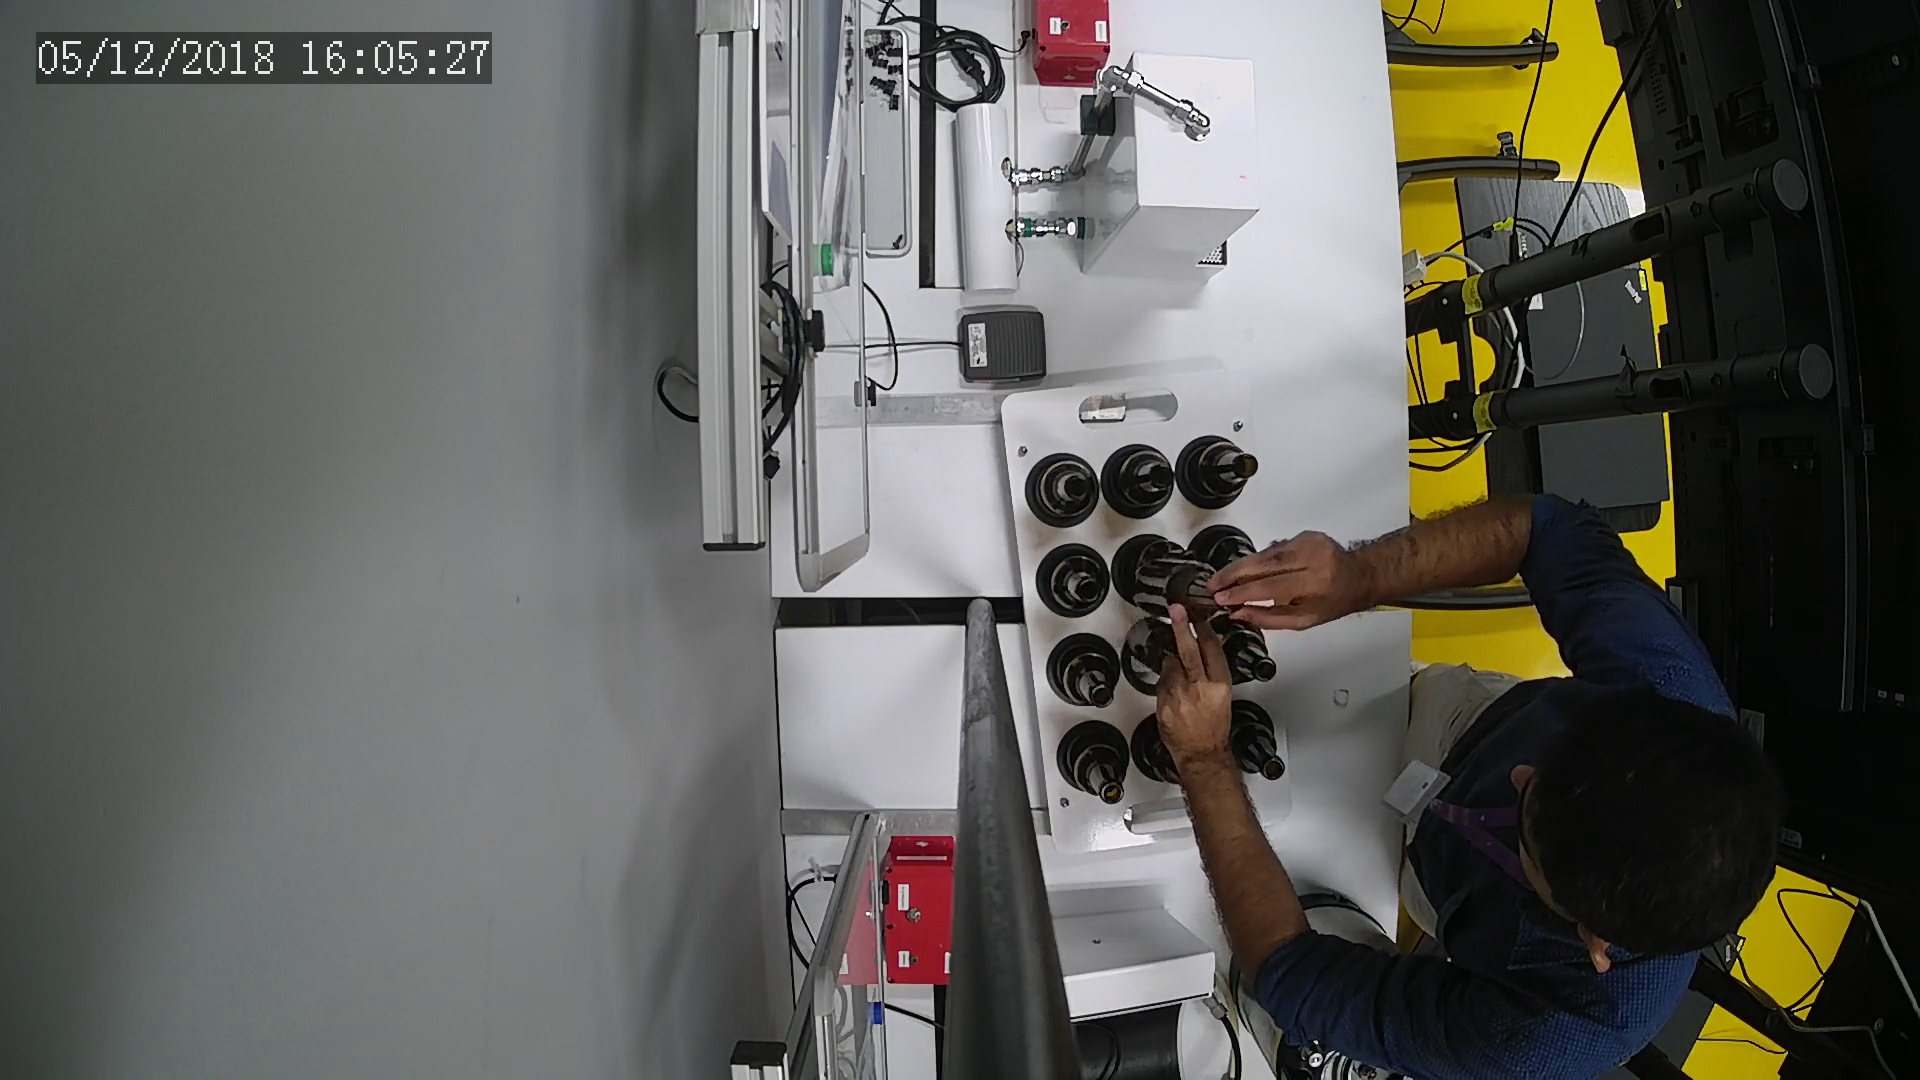filled_bottle: (1176, 430, 1262, 520), (1058, 716, 1135, 808), (1036, 541, 1110, 634), (1029, 448, 1106, 534), (1101, 438, 1176, 524), (1051, 630, 1124, 715), (1232, 699, 1298, 785), (1215, 616, 1280, 690), (1183, 524, 1266, 572), (1120, 531, 1195, 580)
trolley: (1004, 365, 1313, 861)
